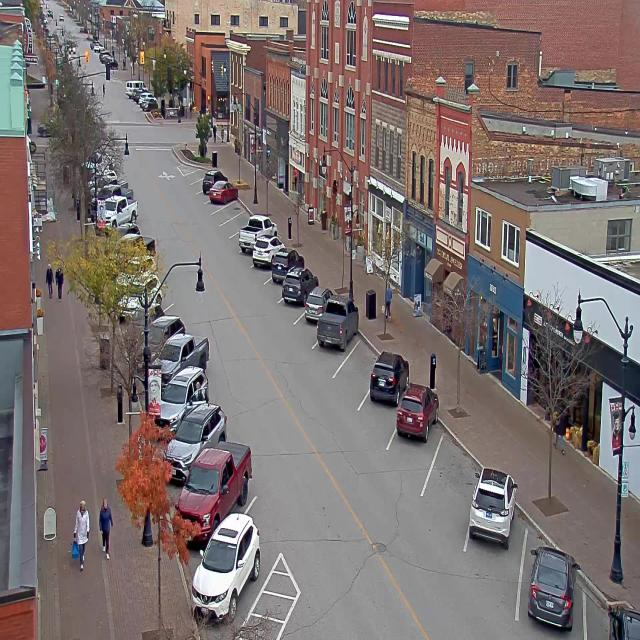available: (430, 428, 482, 511), (343, 330, 380, 387), (234, 205, 252, 230), (186, 162, 208, 180), (225, 196, 242, 218), (190, 174, 202, 198)
occupied: (175, 432, 258, 530), (191, 510, 261, 624), (163, 402, 227, 484), (527, 544, 579, 630), (468, 466, 518, 547), (160, 358, 213, 425), (394, 381, 446, 446), (582, 586, 639, 639), (153, 332, 210, 383), (316, 296, 358, 351), (368, 349, 409, 405), (145, 302, 188, 343), (238, 213, 276, 252), (281, 265, 318, 304), (304, 282, 333, 328), (270, 250, 306, 282), (249, 234, 285, 264), (209, 179, 237, 204), (202, 168, 223, 195)
